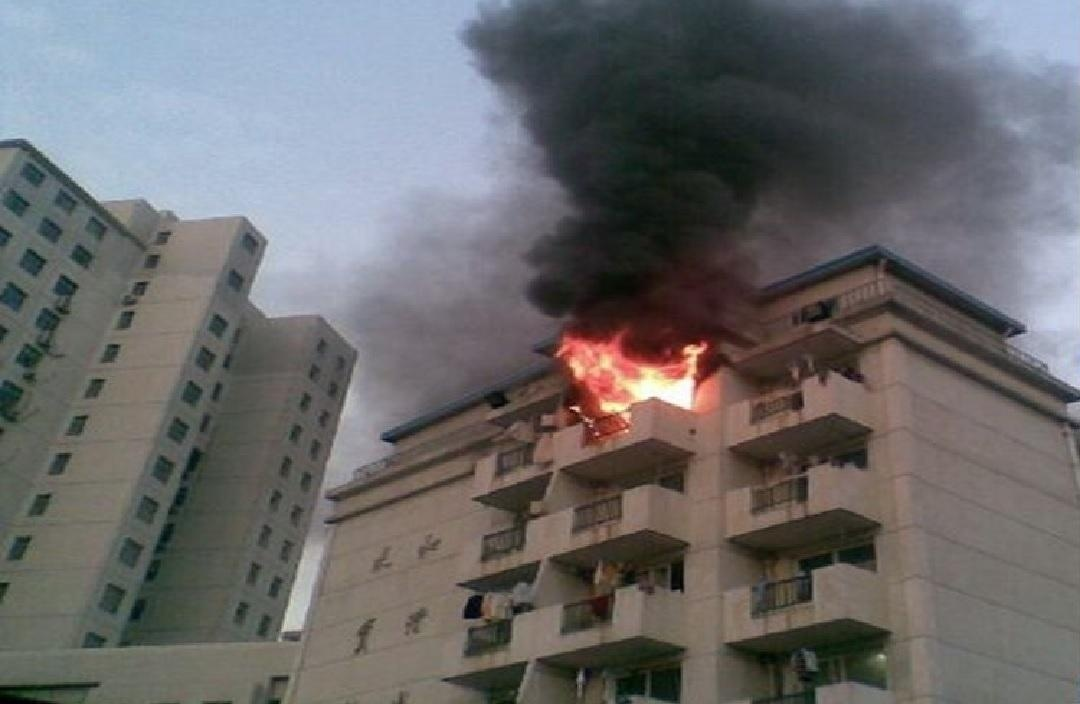fire: (558, 328, 707, 414)
